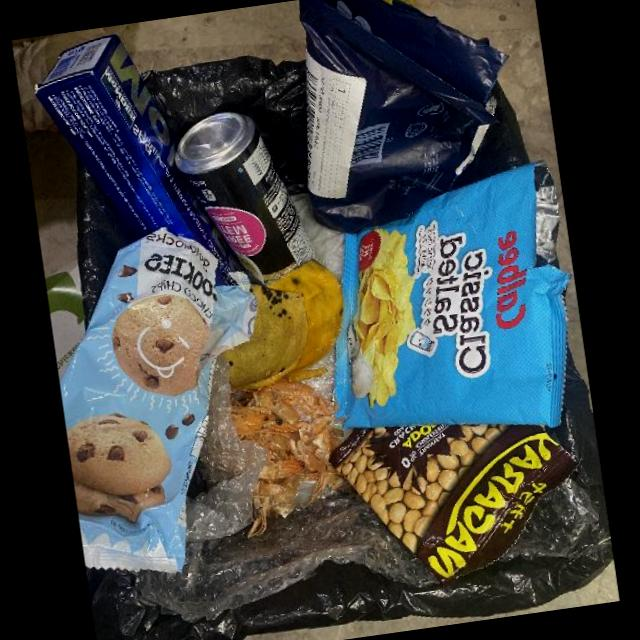bao_bi_thuc_pham: (59, 228, 258, 575), (334, 162, 571, 430), (330, 424, 578, 584)
carton: (35, 34, 263, 287)
nhom: (175, 113, 315, 285)
thuc_an_thua: (230, 380, 349, 539)
tui_ni_long: (299, 0, 510, 234)
vo_trai_cay: (223, 260, 343, 392)
